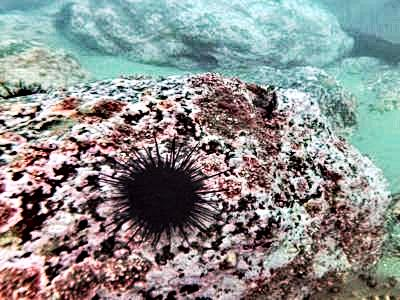urchin: (96, 129, 223, 251)
